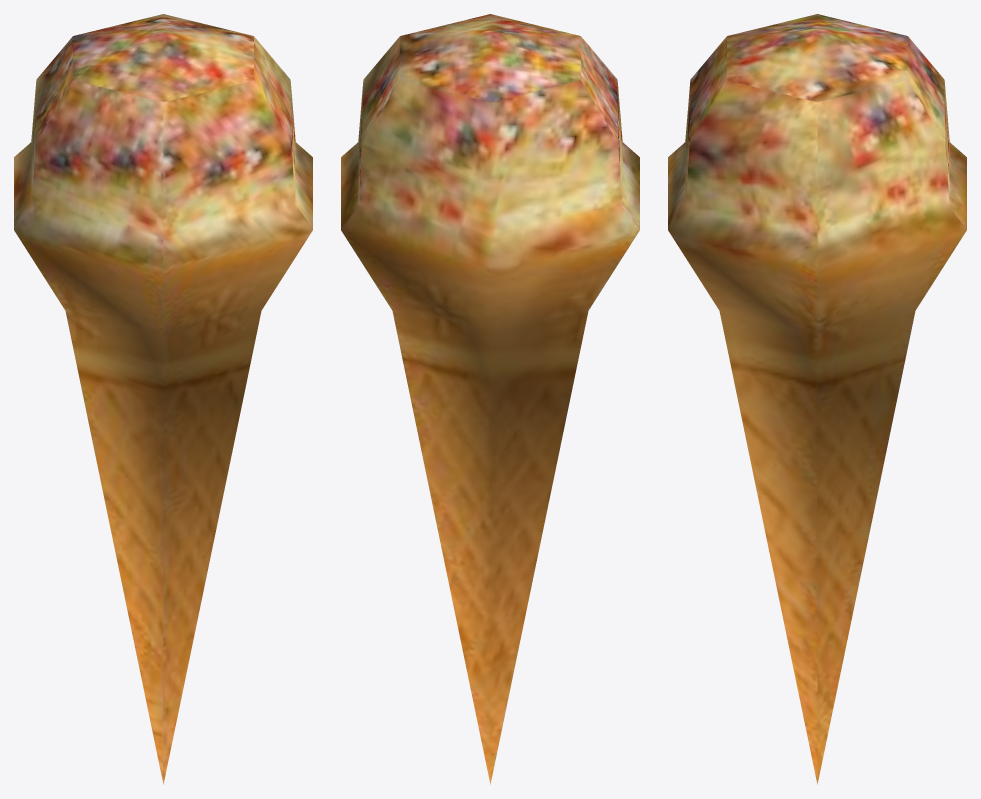
The model's file is Frozen_02.glb.
3 renders of one model, left to right at view 1: azimuth 30°, elevation 25°; view 2: azimuth 150°, elevation 25°; view 3: azimuth 270°, elevation 25°, orthographic.
Visible parts, largest first — view 1: Frozen_02; view 2: Frozen_02; view 3: Frozen_02.
Part boxes in pixels (box(x1,y1,x2,y2)): Frozen_02: box(14, 14, 312, 784); Frozen_02: box(341, 14, 639, 784); Frozen_02: box(668, 14, 966, 784).
Bounding box in the file's own units: 0.082 × 0.1971 × 0.071.
1 material, 1 textured.
